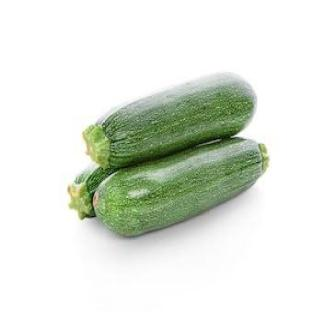Zucchini: (93, 138, 268, 236), (83, 74, 255, 167), (68, 165, 113, 219)
